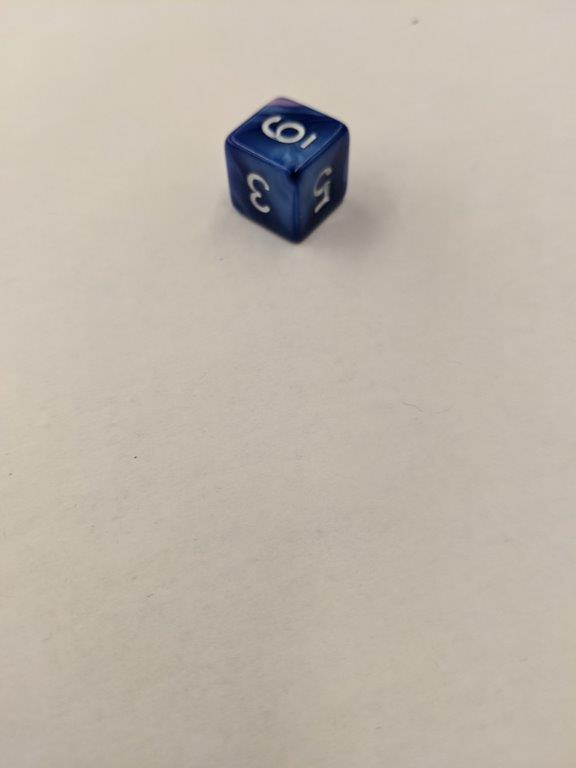d6-6: (226, 93, 350, 243)
